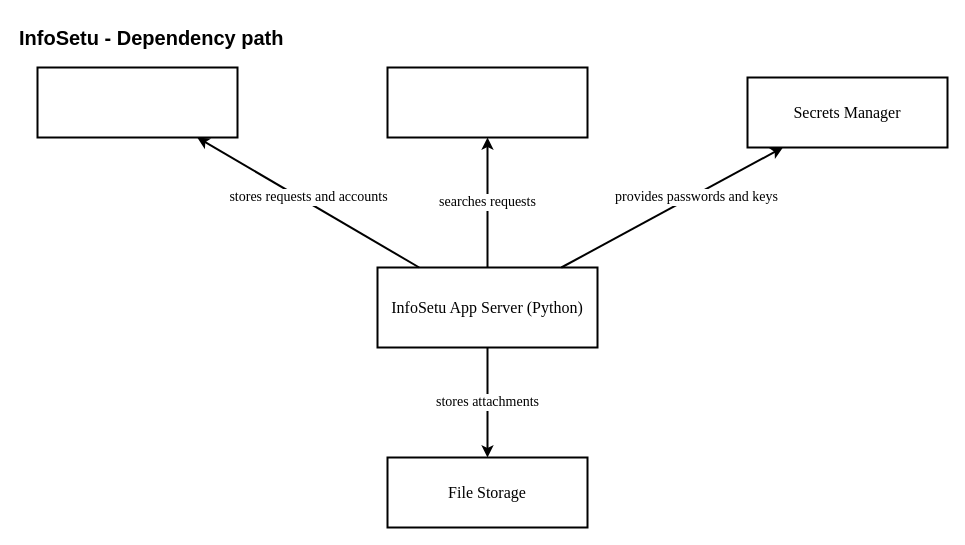
Some shapes in this 965 by 545 pixel diagram are drawn without their labels. Each missing label, with the box of its shape:
Elasticsearch: (386, 66, 588, 138)
SQLite Database: (36, 66, 238, 138)
